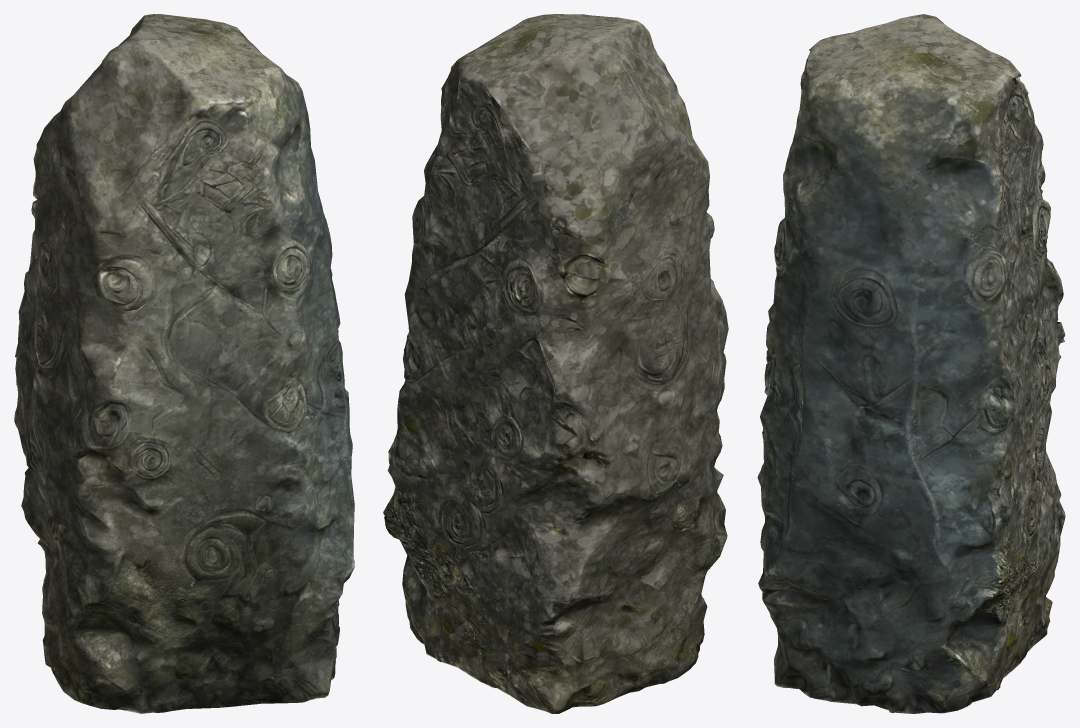
Rendered from monolith.glb.
3 renders of one model, left to right at view 1: azimuth 30°, elevation 25°; view 2: azimuth 150°, elevation 25°; view 3: azimuth 270°, elevation 25°, orthographic. The views are drawn at different scales.
Visible parts, largest first — view 1: monolith; view 2: monolith; view 3: monolith.
Boxes of the visible parts, left/top/right/bottom form: monolith: left=14, top=14, right=354, bottom=713; monolith: left=383, top=14, right=728, bottom=713; monolith: left=757, top=14, right=1065, bottom=713.
Size of the model in its own units: 5.72 by 12 by 5.44.
Materials: 1 (1 with a texture image).
